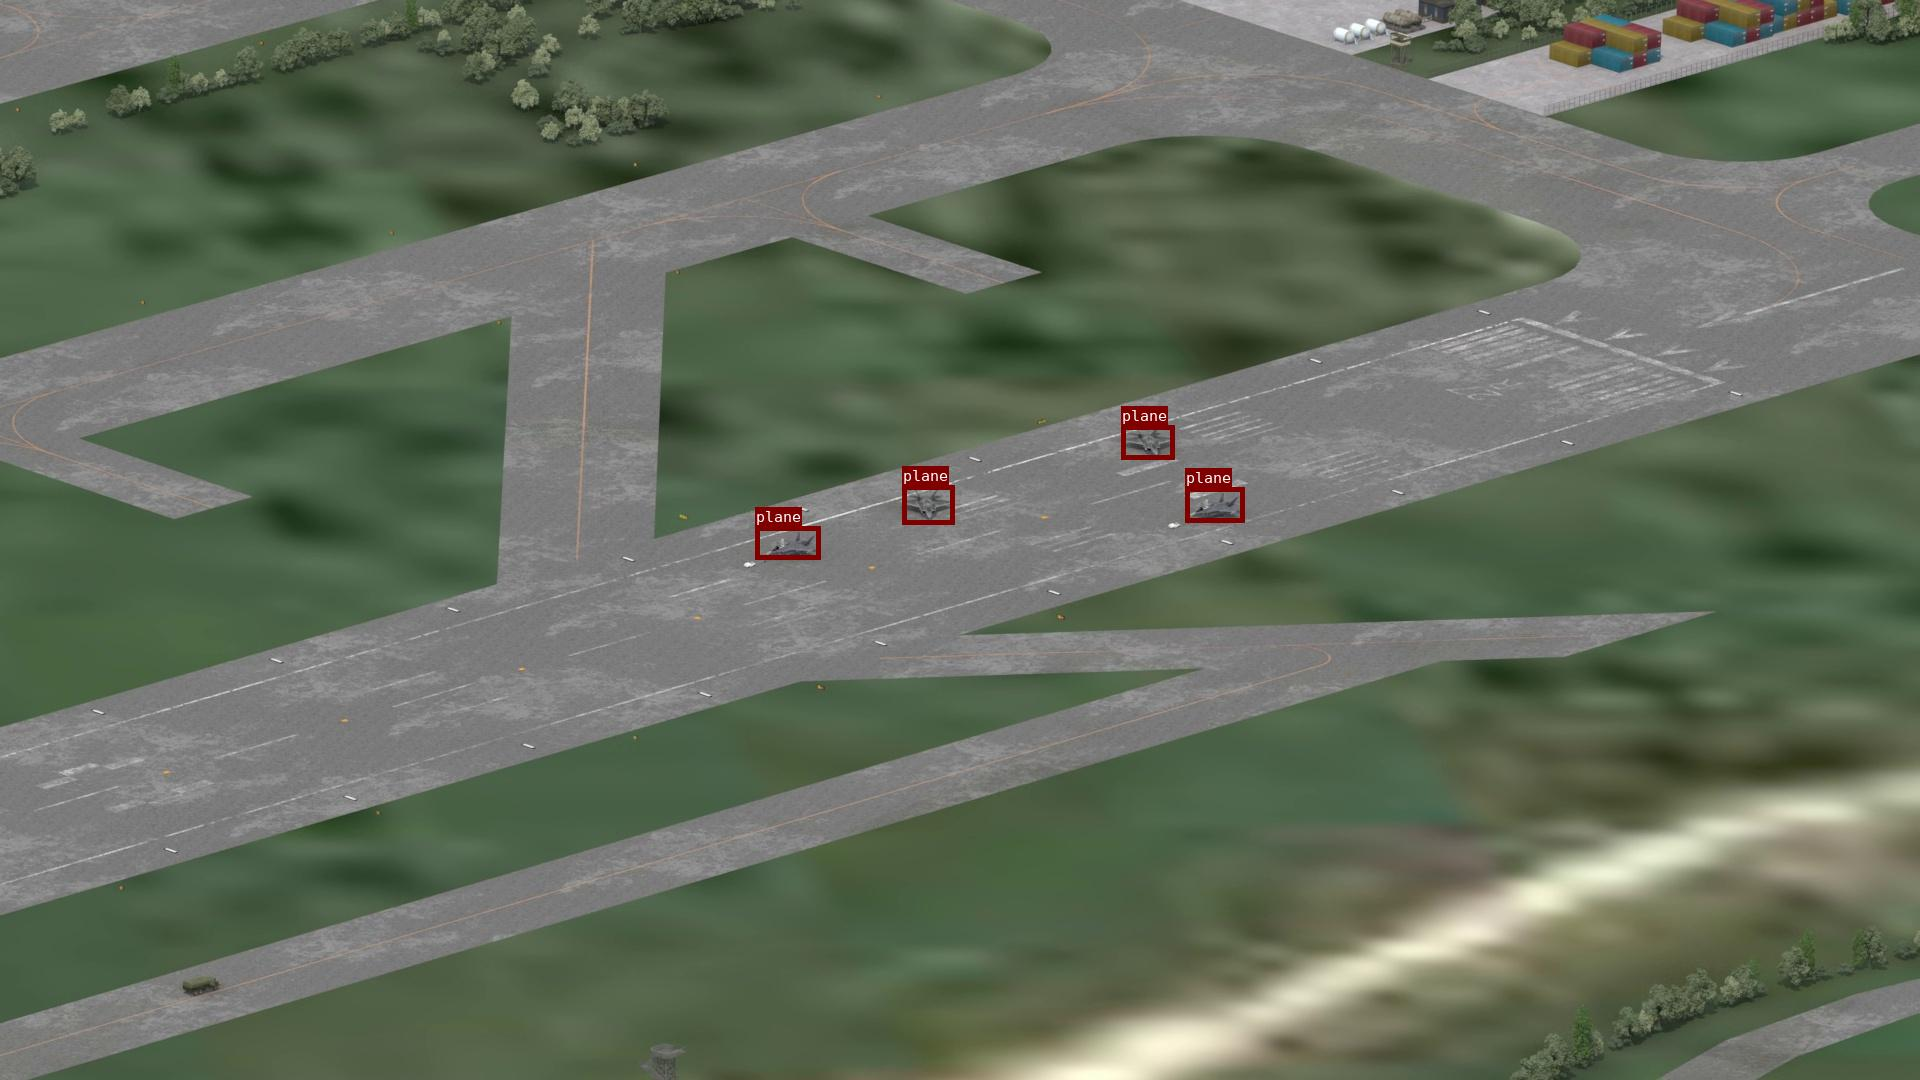plane: (756, 526, 820, 559), (1185, 487, 1244, 522), (902, 485, 953, 524), (1121, 425, 1174, 459)
